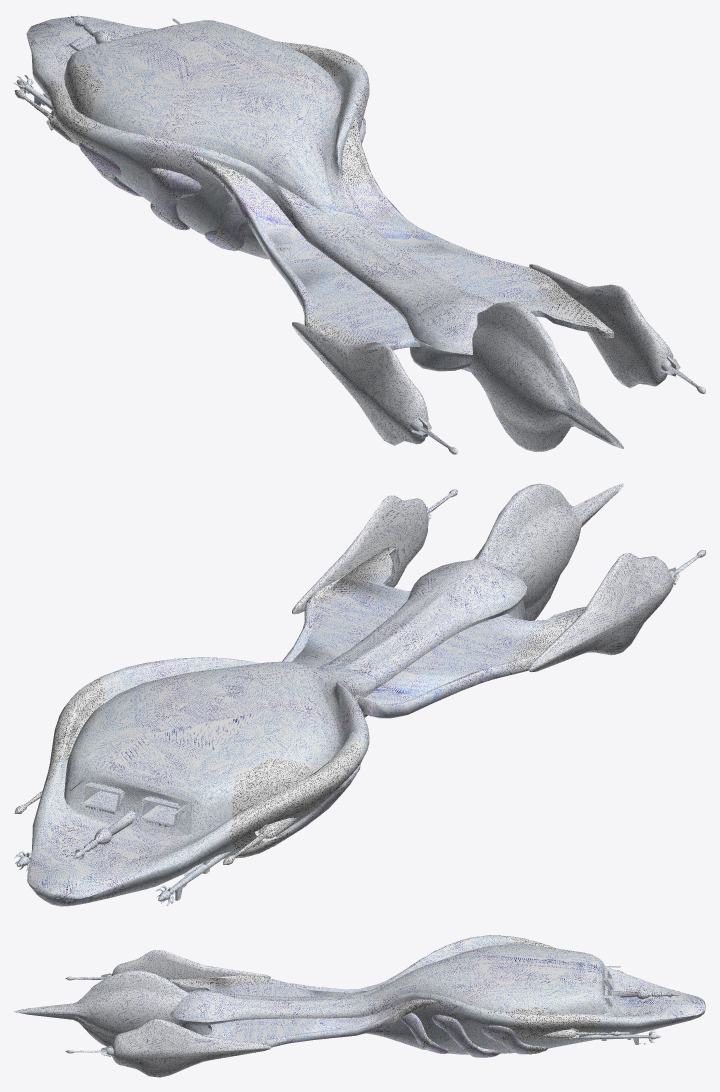
The model's file is Torotha.fbx.
The picture shows the model from 3 angles, top to bottom: view 1: azimuth 30°, elevation 25°; view 2: azimuth 150°, elevation 25°; view 3: azimuth 270°, elevation 25°; orthographic projection. The views are drawn at different scales.
Visible parts, largest first — view 1: RAD_MESH0, RAD_MESH1, RAD_MESH6, RAD_MESH3, RAD_MESH7, RAD_MESH2, RAD_MESH5; view 2: RAD_MESH0, RAD_MESH1, RAD_MESH6, RAD_MESH3, RAD_MESH7, RAD_MESH2; view 3: RAD_MESH0, RAD_MESH1, RAD_MESH6, RAD_MESH7, RAD_MESH2, RAD_MESH3, RAD_MESH5.
Part boxes in pixels (left/top/right/bottom): RAD_MESH0: left=14, top=14, right=705, bottom=454; RAD_MESH1: left=14, top=16, right=702, bottom=453; RAD_MESH6: left=292, top=265, right=672, bottom=443; RAD_MESH3: left=191, top=155, right=419, bottom=349; RAD_MESH7: left=469, top=302, right=623, bottom=451; RAD_MESH2: left=342, top=115, right=612, bottom=337; RAD_MESH5: left=79, top=118, right=365, bottom=249; RAD_MESH0: left=14, top=483, right=705, bottom=906; RAD_MESH1: left=15, top=490, right=705, bottom=905; RAD_MESH6: left=293, top=496, right=672, bottom=671; RAD_MESH3: left=354, top=607, right=585, bottom=717; RAD_MESH7: left=478, top=484, right=622, bottom=620; RAD_MESH2: left=282, top=547, right=410, bottom=667; RAD_MESH0: left=14, top=935, right=705, bottom=1077; RAD_MESH1: left=66, top=935, right=705, bottom=1055; RAD_MESH6: left=112, top=950, right=268, bottom=1076; RAD_MESH7: left=16, top=971, right=184, bottom=1046; RAD_MESH2: left=206, top=999, right=434, bottom=1046; RAD_MESH3: left=168, top=960, right=419, bottom=997; RAD_MESH5: left=401, top=1014, right=547, bottom=1057.
Bounding box in the file's own units: 163 × 82.11 × 579.
